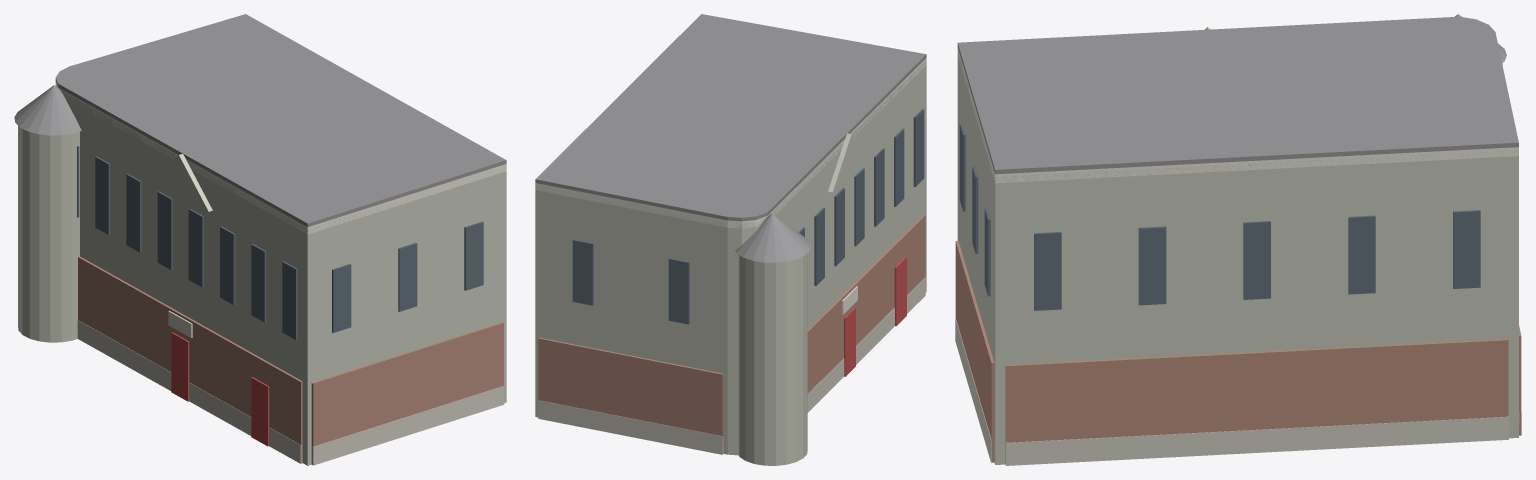
File: d_636_purchase.glb
3 renders of one model, left to right at view 1: azimuth 30°, elevation 25°; view 2: azimuth 150°, elevation 25°; view 3: azimuth 270°, elevation 25°, orthographic. The views are drawn at different scales.
Visible parts, largest first — view 1: mass, roofcap, br636_2, tur636, br636_3, st636_3, st636_2, cornice, turc636, gab636, up636b_3_2, up636b_3_1 (+10 smaller); view 2: roofcap, mass, tur636, br636_5, br636_2, st636_5, cornice, turc636, st636_2, up636b_5_1, up636b_5_0, gab636 (+8 smaller); view 3: mass, roofcap, br636_4, st636_4, cornice, br636_3, up636b_4_1, up636b_4_3, up636b_4_0, up636b_4_2, up636b_4_4, st636_3 (+3 smaller).
Boxes of the visible parts, x1=… form: mass: x1=56, y1=86, x2=506, y2=465; roofcap: x1=55, y1=14, x2=506, y2=226; br636_2: x1=78, y1=256, x2=302, y2=463; tur636: x1=18, y1=126, x2=79, y2=342; br636_3: x1=311, y1=322, x2=503, y2=465; st636_3: x1=311, y1=386, x2=504, y2=465; st636_2: x1=77, y1=320, x2=302, y2=463; cornice: x1=55, y1=81, x2=506, y2=234; turc636: x1=14, y1=85, x2=81, y2=135; gab636: x1=149, y1=154, x2=212, y2=211; up636b_3_2: x1=464, y1=221, x2=483, y2=290; up636b_3_1: x1=398, y1=243, x2=417, y2=311; roofcap: x1=535, y1=14, x2=926, y2=221; mass: x1=535, y1=60, x2=926, y2=455; tur636: x1=738, y1=253, x2=807, y2=465; br636_5: x1=538, y1=337, x2=723, y2=453; br636_2: x1=807, y1=215, x2=925, y2=393; st636_5: x1=538, y1=400, x2=723, y2=454; cornice: x1=535, y1=58, x2=926, y2=228; turc636: x1=735, y1=213, x2=810, y2=262; st636_2: x1=807, y1=277, x2=925, y2=412; up636b_5_1: x1=668, y1=258, x2=689, y2=324; up636b_5_0: x1=572, y1=239, x2=593, y2=305; gab636: x1=828, y1=133, x2=870, y2=192; mass: x1=957, y1=53, x2=1518, y2=464; roofcap: x1=957, y1=16, x2=1518, y2=174; br636_4: x1=1005, y1=339, x2=1508, y2=464; st636_4: x1=1006, y1=416, x2=1508, y2=465; cornice: x1=957, y1=47, x2=1518, y2=183; br636_3: x1=955, y1=240, x2=994, y2=462; up636b_4_1: x1=1138, y1=226, x2=1166, y2=305; up636b_4_3: x1=1348, y1=215, x2=1375, y2=294; up636b_4_0: x1=1034, y1=232, x2=1061, y2=310; up636b_4_2: x1=1243, y1=221, x2=1270, y2=299; up636b_4_4: x1=1453, y1=210, x2=1480, y2=288; st636_3: x1=955, y1=318, x2=991, y2=462.
Size of the model in its own units: 19.86 by 15.41 by 26.81.
